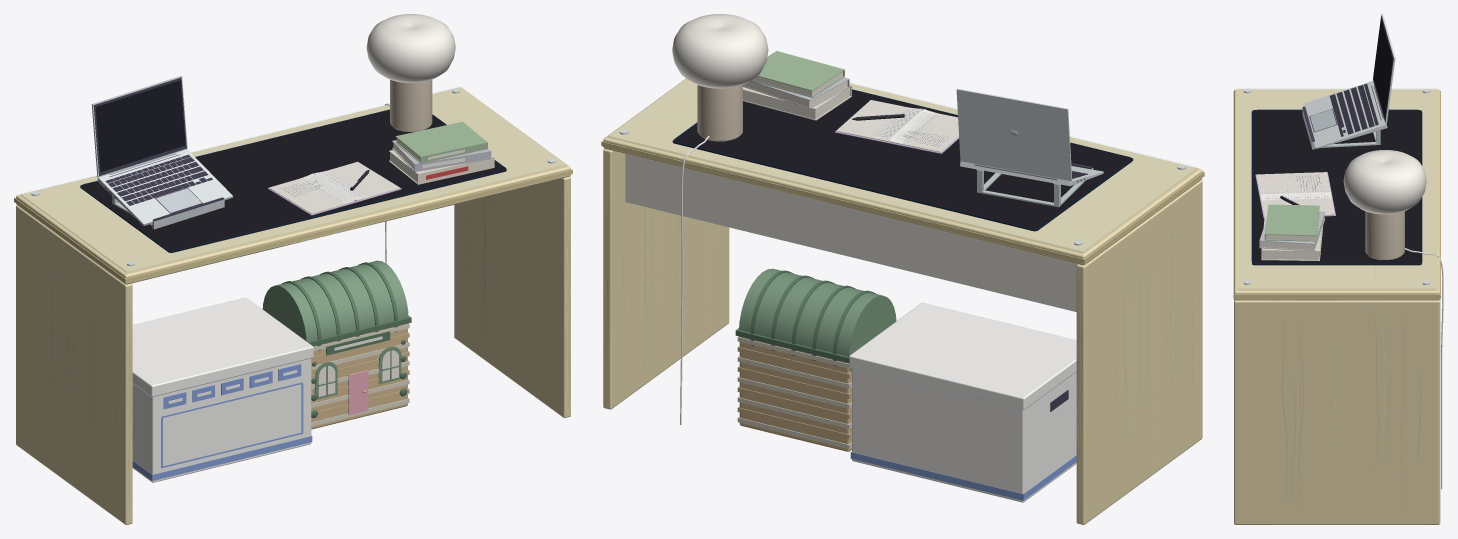
The model's file is bureau-studio.glb.
3 renders of one model, left to right at view 1: azimuth 30°, elevation 25°; view 2: azimuth 150°, elevation 25°; view 3: azimuth 270°, elevation 25°, orthographic. The views are drawn at different scales.
Parts seen in each view (by area): view 1: bureau, sous-main-plan, objet_champignon, ecran-mac, objet_mac, objet_livres, objet_cahier, objet_sous_main, pivot_capot; view 2: bureau, sous-main-plan, objet_champignon, pivot_capot, objet_livres, objet_cahier, objet_sous_main, objet_mac; view 3: bureau, sous-main-plan, objet_champignon, objet_mac, objet_livres, objet_cahier, objet_sous_main, ecran-mac, pivot_capot.
Boxes of the visible parts, bbox=[...] form: bureau: bbox=[14, 86, 572, 524]; sous-main-plan: bbox=[80, 110, 506, 251]; objet_champignon: bbox=[366, 14, 455, 131]; ecran-mac: bbox=[95, 80, 185, 172]; objet_mac: bbox=[97, 149, 233, 225]; objet_livres: bbox=[389, 121, 494, 184]; objet_cahier: bbox=[267, 161, 401, 215]; objet_sous_main: bbox=[80, 109, 506, 252]; pivot_capot: bbox=[91, 75, 187, 177]; bureau: bbox=[601, 78, 1204, 524]; sous-main-plan: bbox=[673, 90, 1132, 229]; objet_champignon: bbox=[672, 14, 768, 141]; pivot_capot: bbox=[956, 88, 1072, 180]; objet_livres: bbox=[743, 51, 851, 120]; objet_cahier: bbox=[834, 100, 958, 153]; objet_sous_main: bbox=[672, 89, 1133, 231]; objet_mac: bbox=[960, 161, 1103, 186]; bureau: bbox=[1233, 88, 1443, 524]; sous-main-plan: bbox=[1252, 110, 1421, 263]; objet_champignon: bbox=[1343, 150, 1426, 259]; objet_mac: bbox=[1303, 81, 1387, 148]; objet_livres: bbox=[1259, 204, 1325, 260]; objet_cahier: bbox=[1255, 172, 1335, 218]; objet_sous_main: bbox=[1251, 109, 1422, 265]; ecran-mac: bbox=[1373, 18, 1392, 117]; pivot_capot: bbox=[1373, 14, 1395, 123].
Bounding box in the file's own units: 1.4 × 1.06 × 0.6126.
